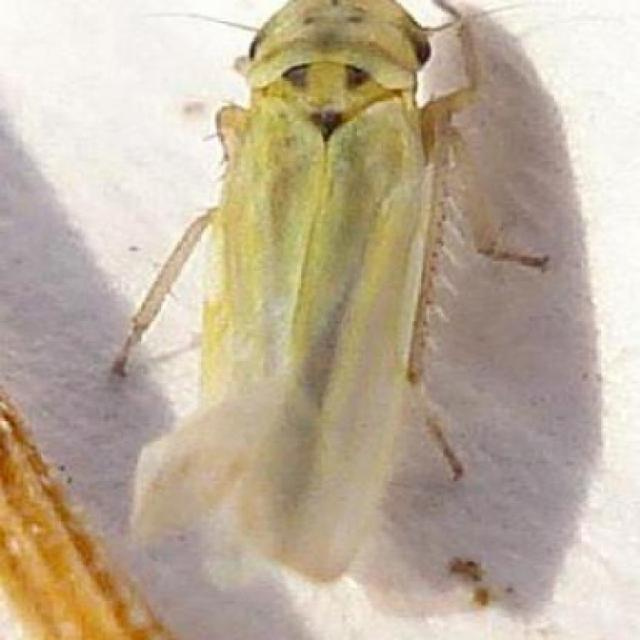green-leafhopper: (173, 0, 482, 551)
